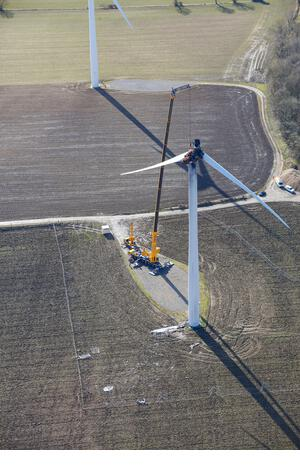faulty: (120, 126, 263, 237)
